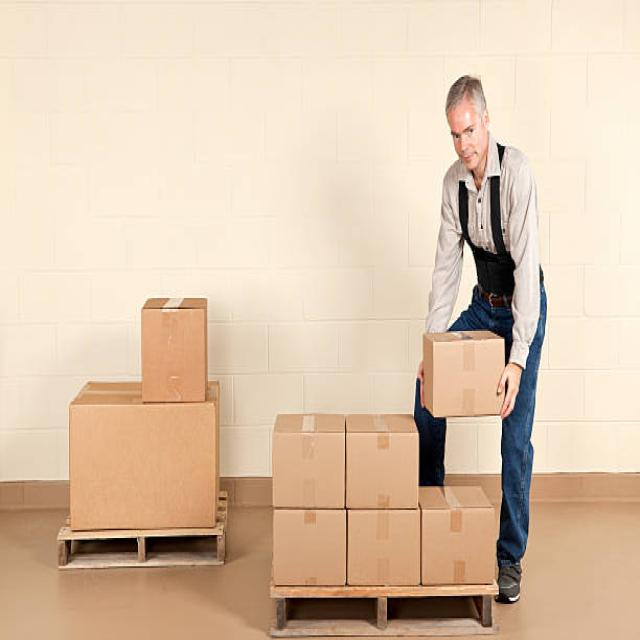Wooden-Pallets: (272, 585, 495, 633), (60, 530, 227, 574)
